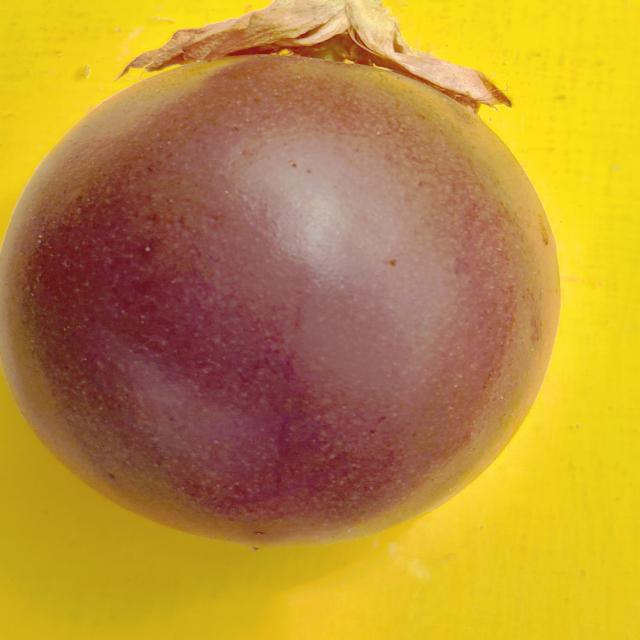Estado-6: (0, 0, 561, 542)
